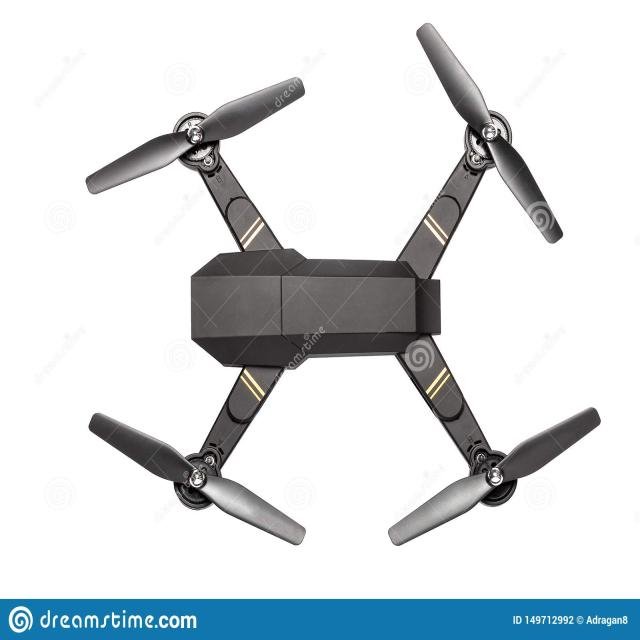drone: (85, 12, 605, 546)
